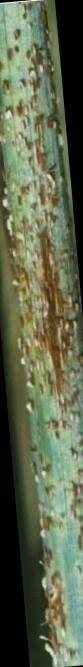Wheat: (0, 0, 83, 488)
